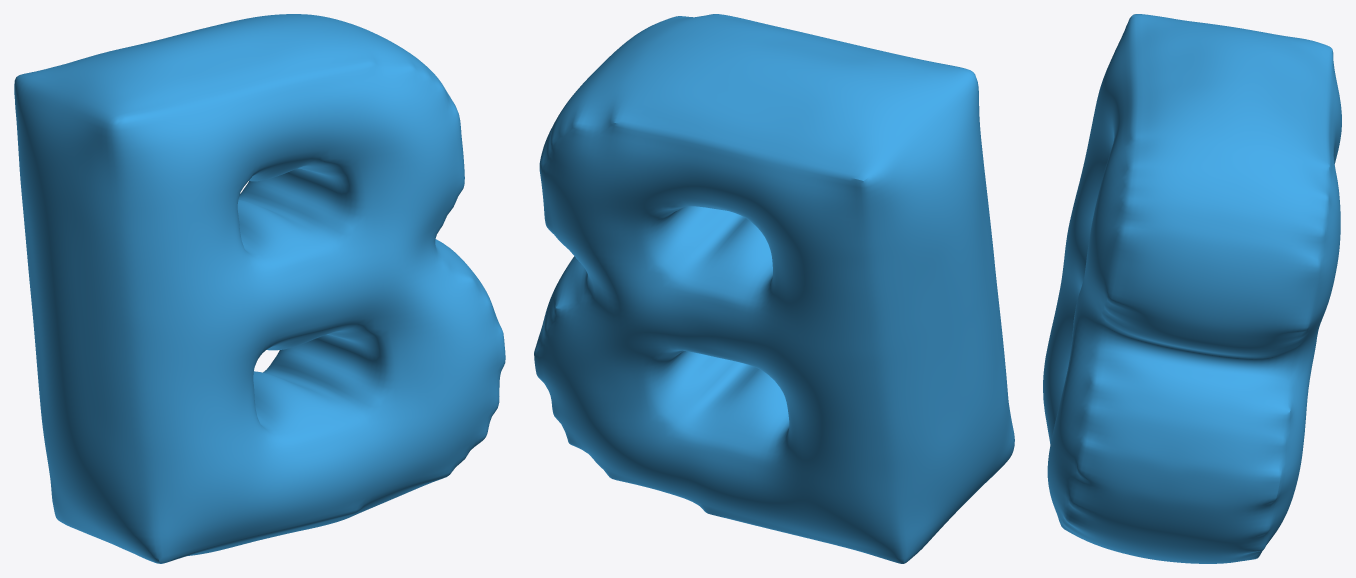
File: LetraB.gltf
The picture shows the model from 3 angles, left to right: view 1: azimuth 30°, elevation 25°; view 2: azimuth 150°, elevation 25°; view 3: azimuth 270°, elevation 25°; orthographic projection. The views are drawn at different scales.
Visible parts, largest first — view 1: B; view 2: B; view 3: B.
Part boxes in pixels (x1,y1,x2,y2): B: (14, 14, 505, 563); B: (534, 14, 1014, 563); B: (1043, 14, 1341, 563).
Size of the model in its own units: 0.8646 by 0.9494 by 0.5757.
